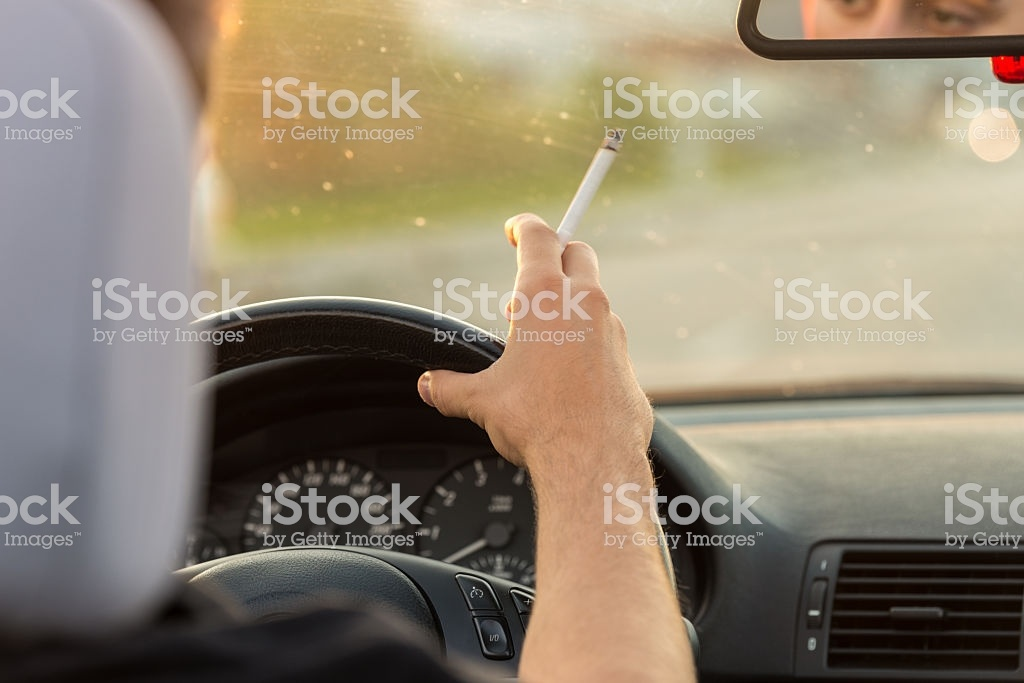sigaretta: (533, 132, 627, 263)
